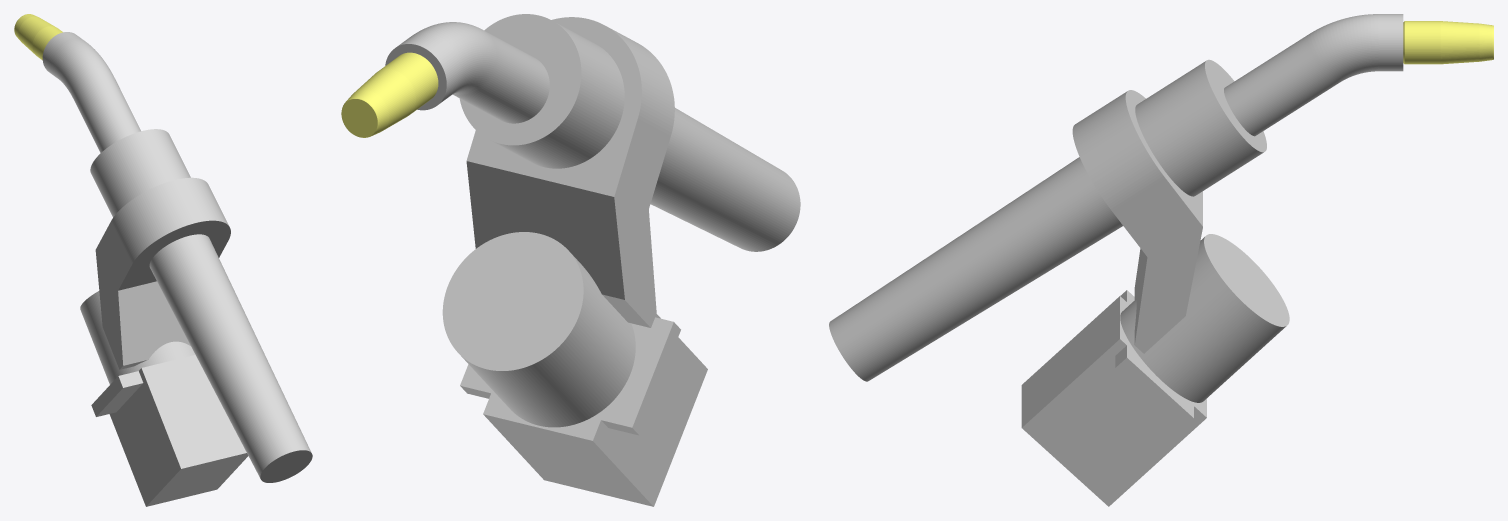
The model's file is MRW510_10GH.obj.
3 renders of one model, left to right at view 1: azimuth 30°, elevation 25°; view 2: azimuth 150°, elevation 25°; view 3: azimuth 270°, elevation 25°, orthographic. The views are drawn at different scales.
Parts seen in each view (by area): view 1: 1829705466384, 1829705466368, 1829705466336, 1829705466320, 1829705466352; view 2: 1829705466384, 1829705466320, 1829705466368, 1829705466336, 1829705466352; view 3: 1829705466384, 1829705466368, 1829705466336, 1829705466320, 1829705466352.
Boxes of the visible parts, bbox=[...] form: 1829705466384: bbox=[80, 177, 248, 506]; 1829705466368: bbox=[149, 234, 312, 482]; 1829705466336: bbox=[42, 32, 140, 152]; 1829705466320: bbox=[90, 129, 190, 217]; 1829705466352: bbox=[14, 14, 62, 59]; 1829705466384: bbox=[442, 17, 707, 506]; 1829705466320: bbox=[459, 14, 624, 168]; 1829705466368: bbox=[650, 108, 800, 251]; 1829705466336: bbox=[385, 22, 549, 123]; 1829705466352: bbox=[341, 52, 438, 137]; 1829705466384: bbox=[1021, 90, 1289, 506]; 1829705466368: bbox=[829, 157, 1122, 381]; 1829705466336: bbox=[1224, 14, 1403, 136]; 1829705466320: bbox=[1135, 59, 1266, 196]; 1829705466352: bbox=[1403, 21, 1493, 64].
Size of the model in its own units: 126 by 406 by 521.
